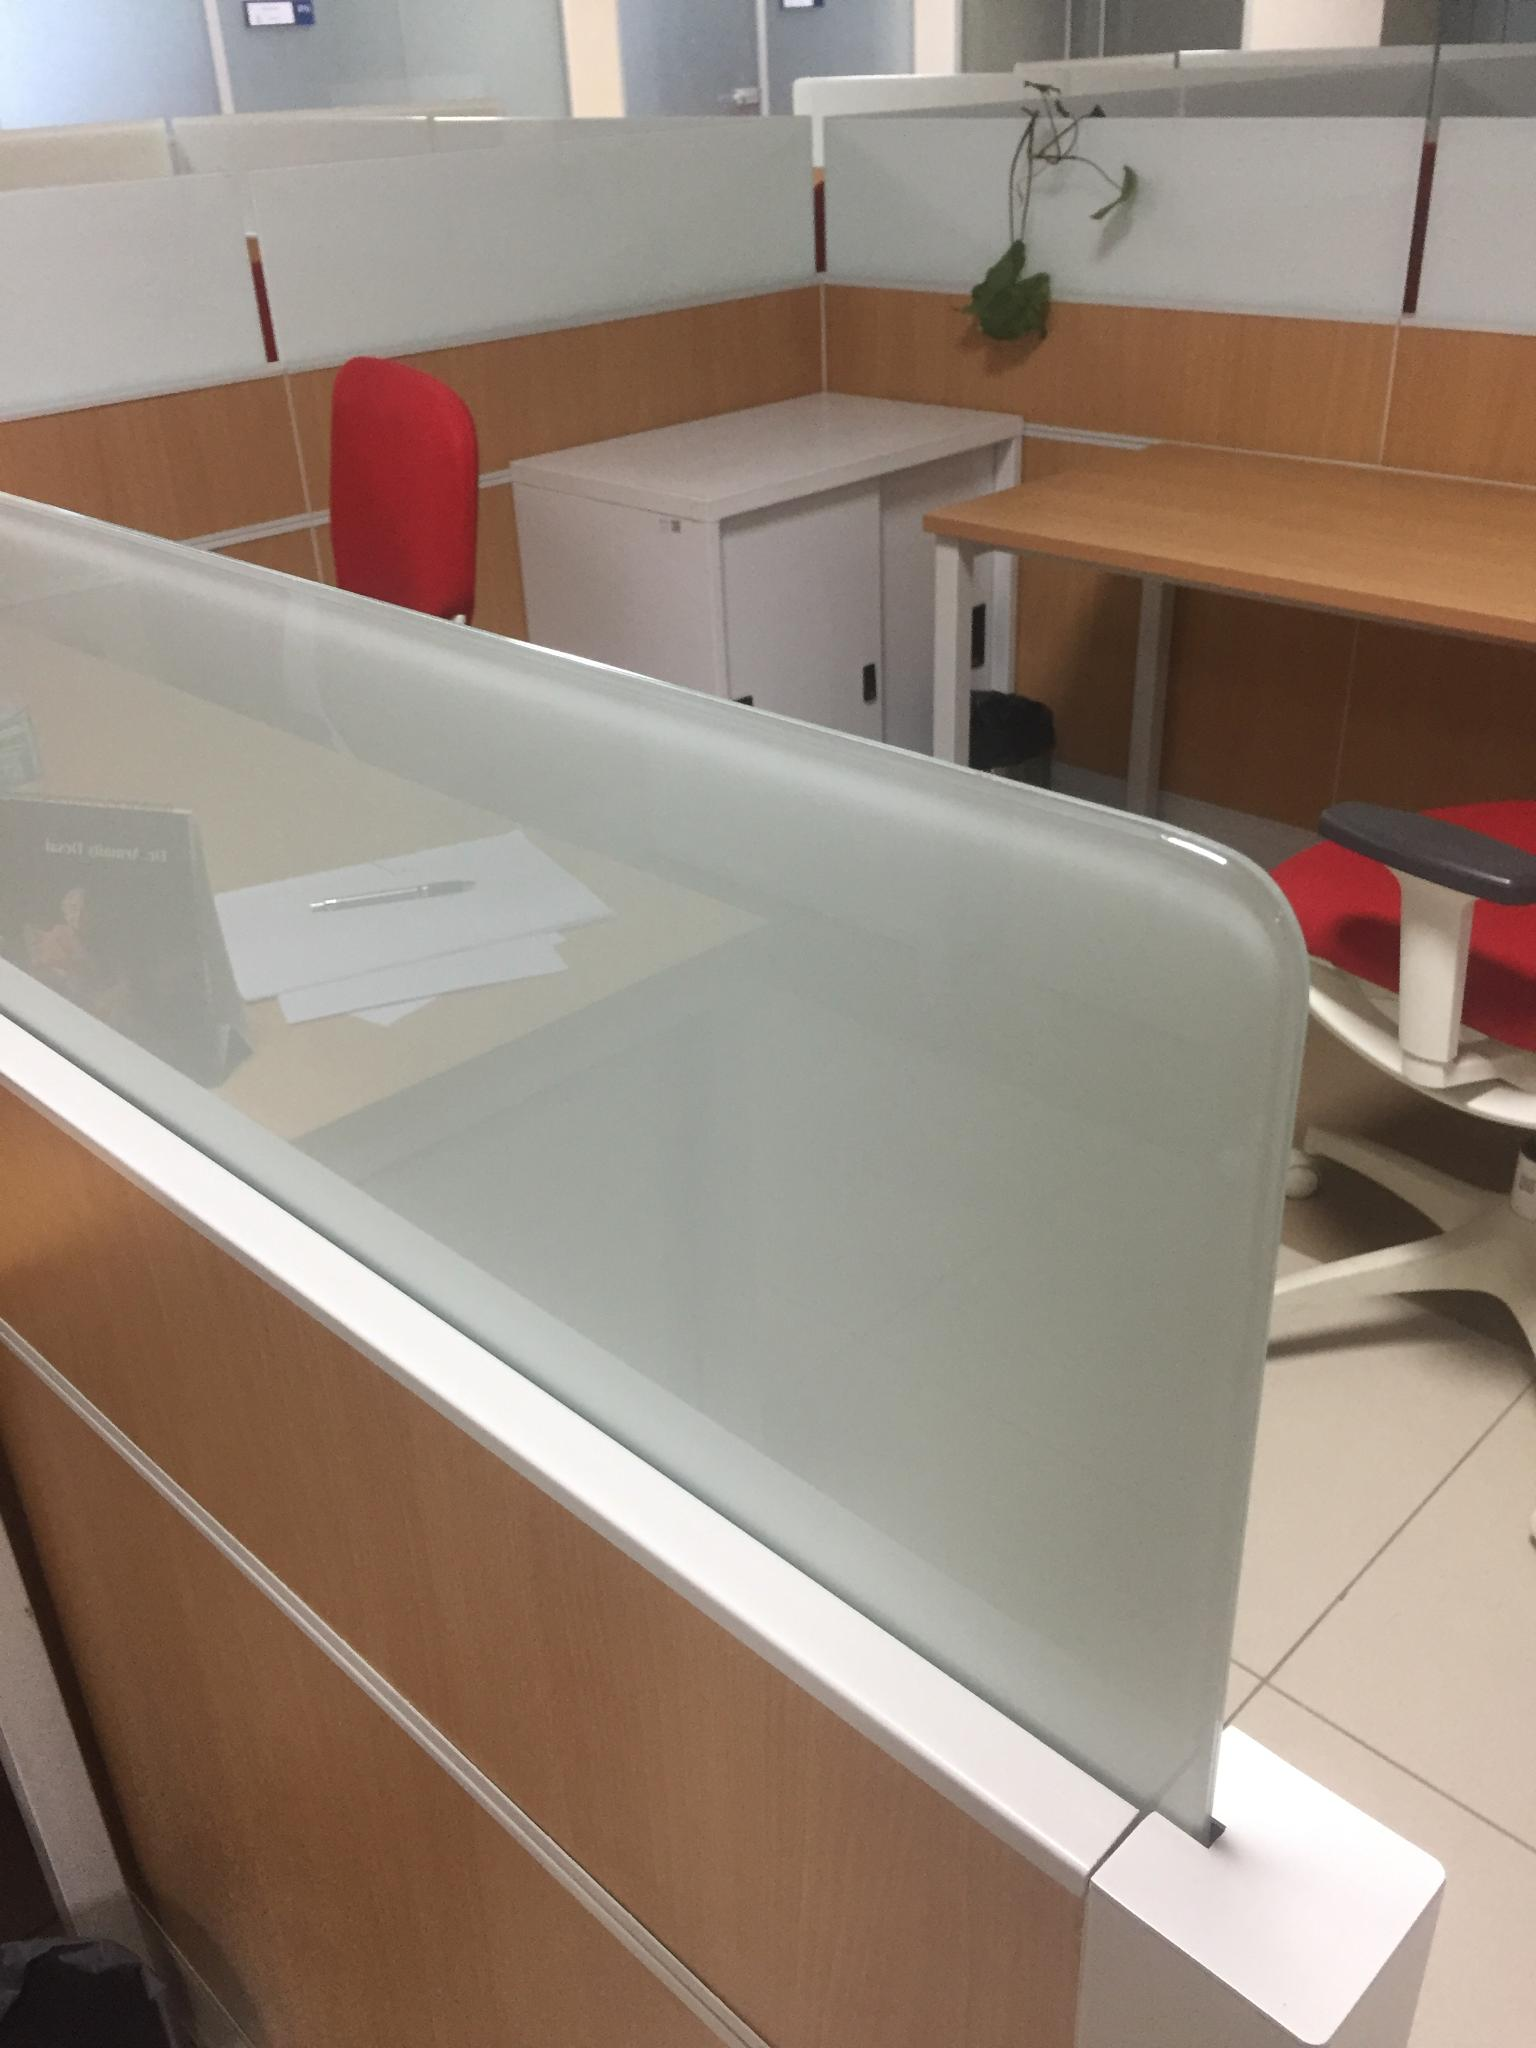chair: (1218, 640, 1536, 1553), (328, 355, 479, 626)
